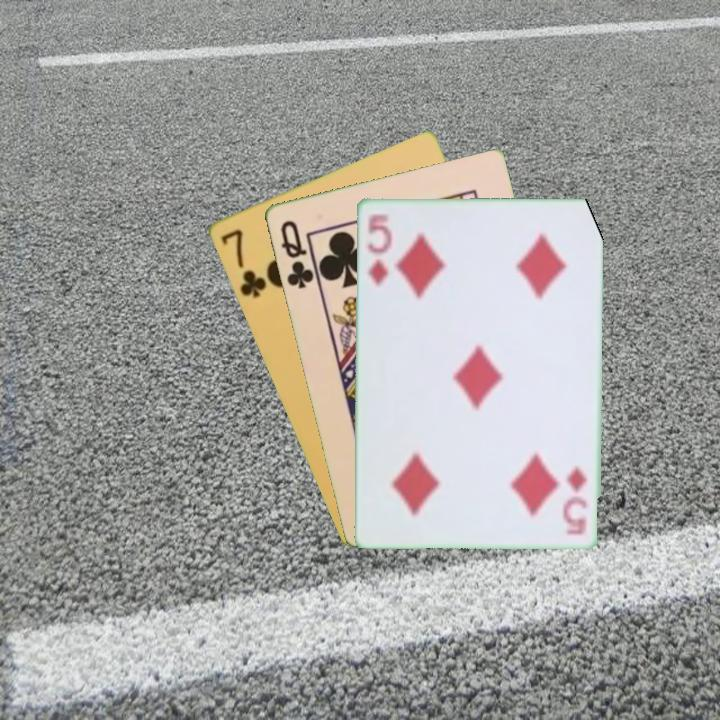5d: (363, 209, 393, 289), (563, 462, 590, 538)
7c: (217, 225, 269, 301)
Qc: (276, 216, 316, 292)
